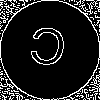C: (25, 25, 69, 77)
